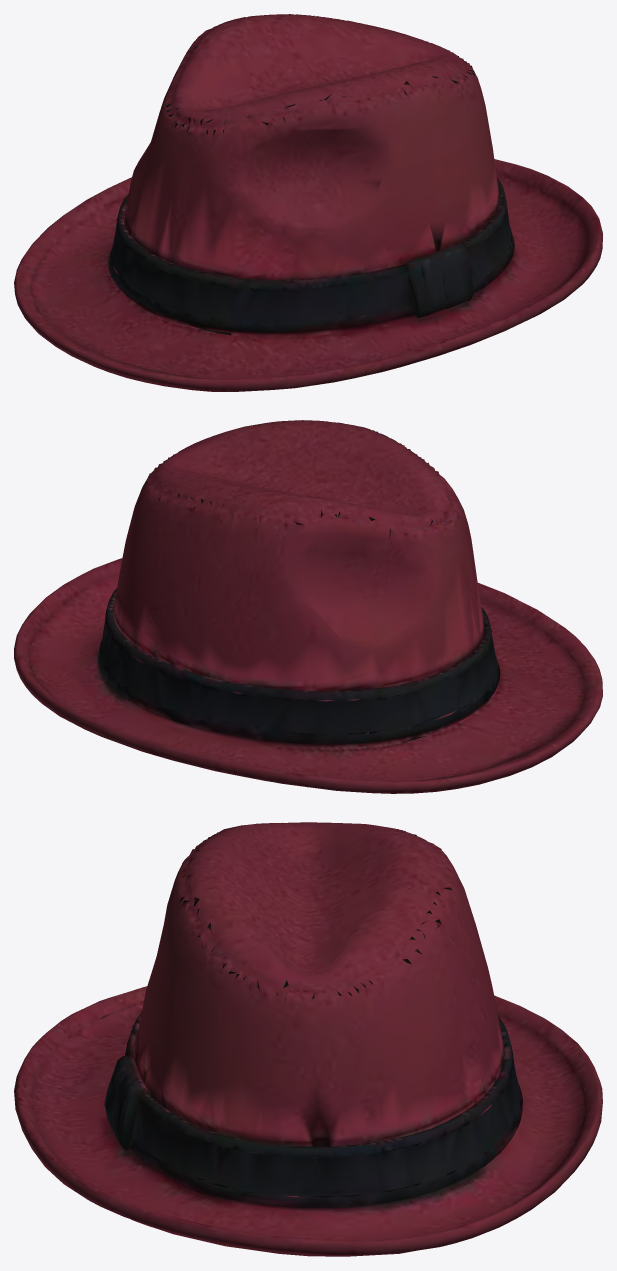
Rendered from fedora.glb.
3 views of the same model, one above another, from view 1: azimuth 30°, elevation 25°; view 2: azimuth 150°, elevation 25°; view 3: azimuth 270°, elevation 25° (orthographic). The views are drawn at different scales.
Parts seen in each view (by area): view 1: node_0; view 2: node_0; view 3: node_0.
Part boxes in pixels (left/top/right/bottom): node_0: left=14, top=14, right=602, bottom=391; node_0: left=14, top=420, right=602, bottom=793; node_0: left=14, top=822, right=602, bottom=1256.
Size of the model in its own units: 0.5 by 0.2105 by 0.421.
Materials: 1 (1 with a texture image).
